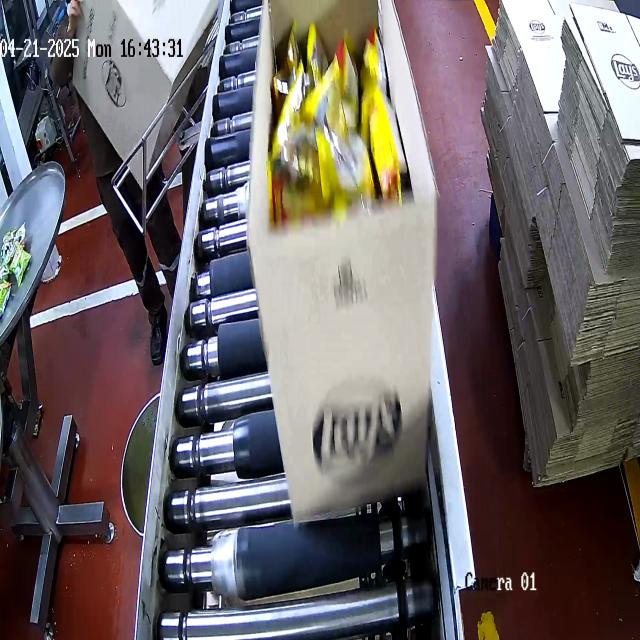SALTED: (268, 0, 408, 230)
